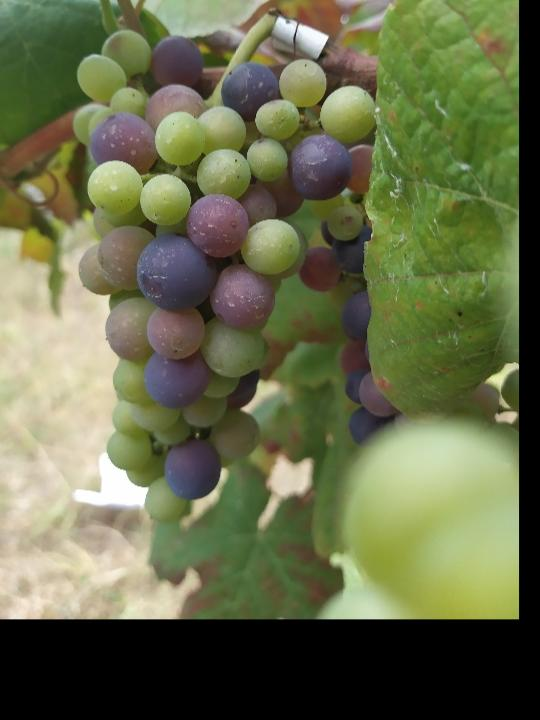grape: (69, 27, 387, 525)
